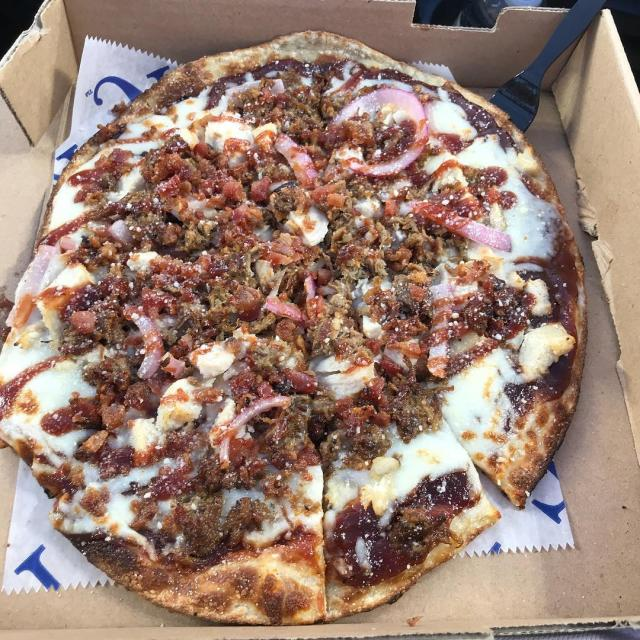pizza: (0, 32, 583, 628)
